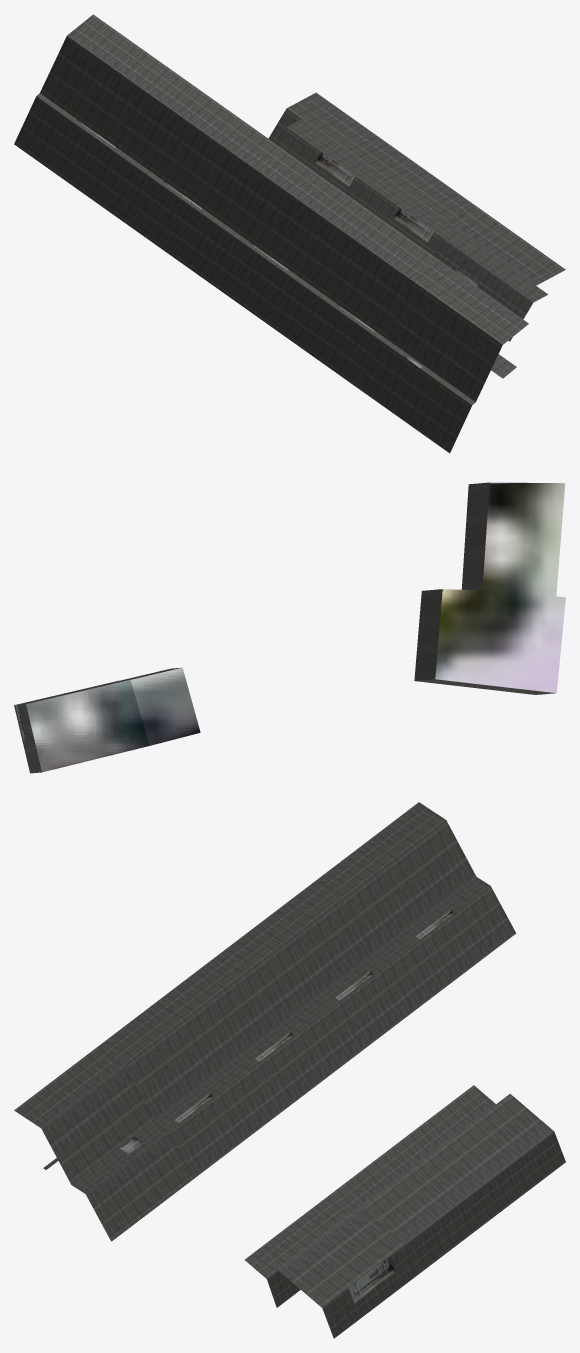
3 views of the same model, one above another, from view 1: azimuth 30°, elevation 25°; view 2: azimuth 150°, elevation 25°; view 3: azimuth 270°, elevation 25° (orthographic). The views are drawn at different scales.
Bounding box in the file's own units: 15.96 × 11.26 × 16.79.
Materials: 13 (13 with a texture image).
